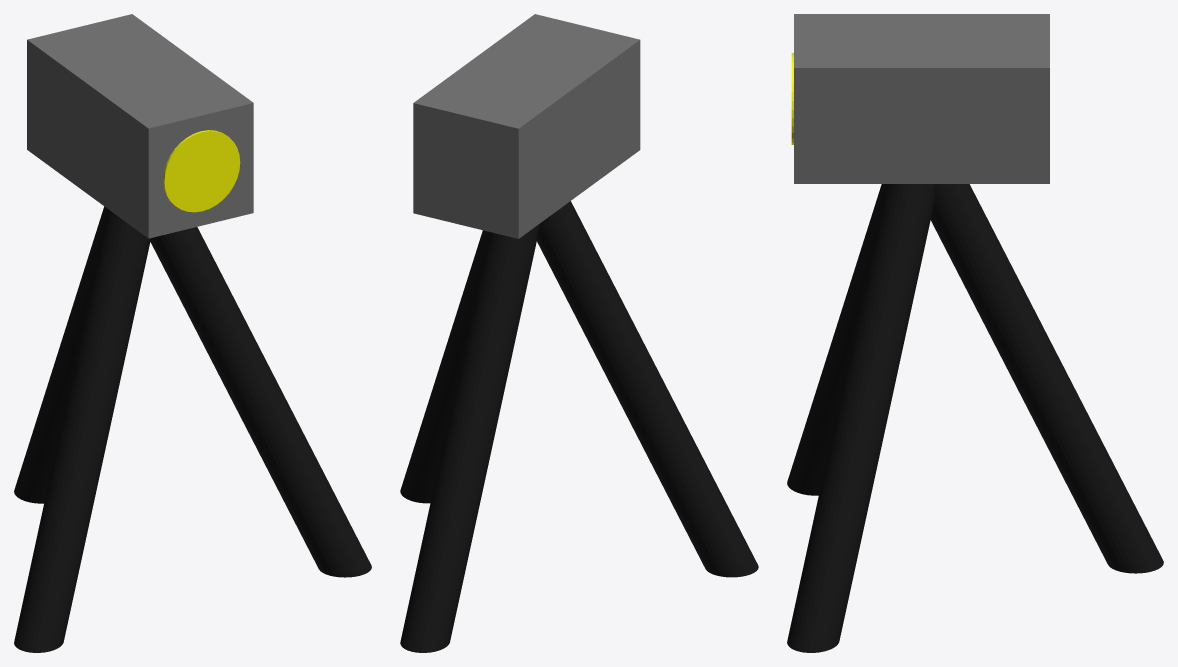
File: Spotlight.glb
3 views of the same model, side by side, from view 1: azimuth 30°, elevation 25°; view 2: azimuth 150°, elevation 25°; view 3: azimuth 270°, elevation 25° (orthographic). The views are drawn at different scales.
Parts seen in each view (by area): view 1: Leg, LightHead; view 2: Leg, LightHead; view 3: Leg, LightHead.
Part boxes in pixels (x1,y1,x2,y2): Leg: (14,206,371,652); LightHead: (27,14,253,238); Leg: (400,201,758,652); LightHead: (413,14,640,238); Leg: (787,184,1163,652); LightHead: (791,14,1049,183).
Bounding box in the file's own units: 0.8349 × 1.12 × 0.7365.
